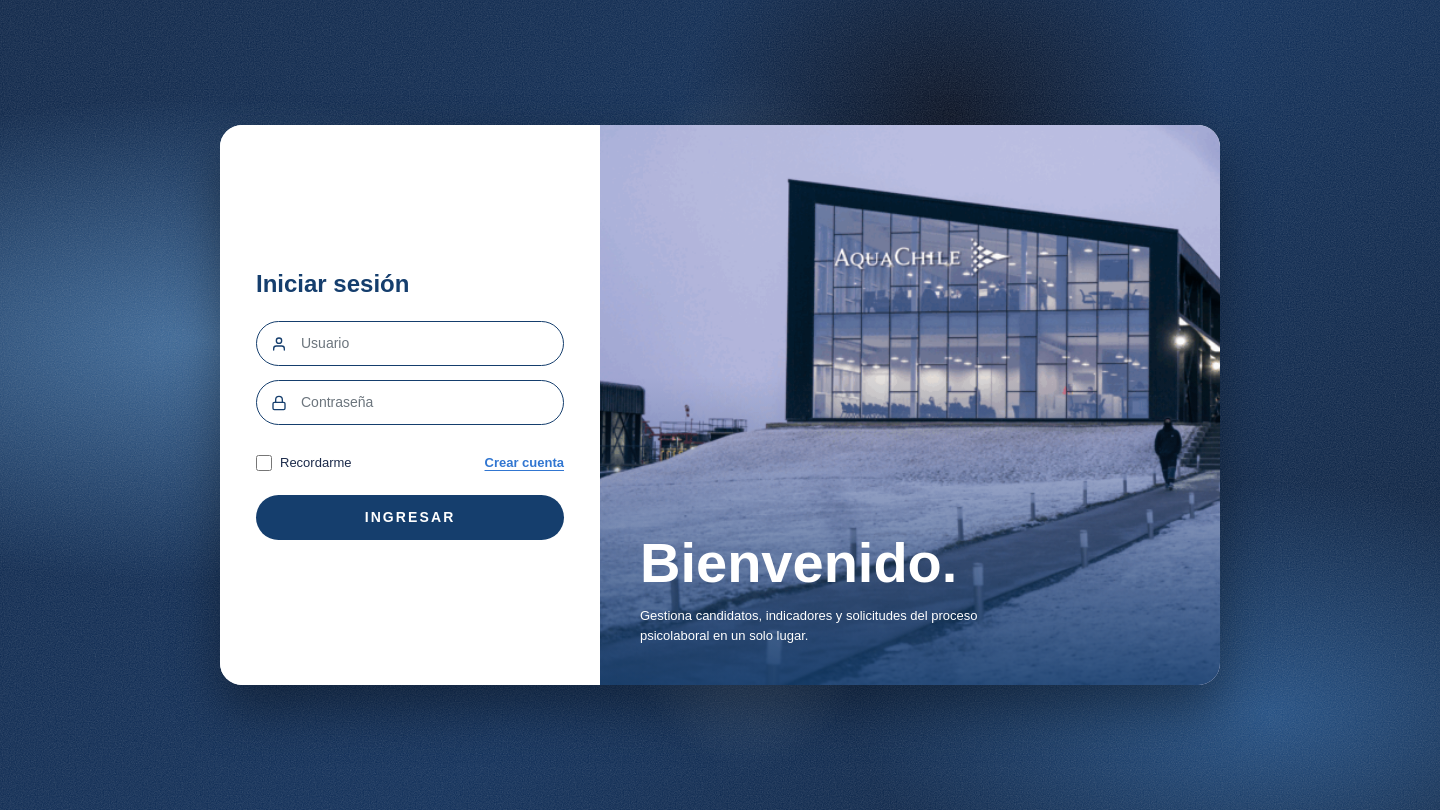
Test: Navegación con React Router › después de ingresar, / lleva a Inicio
Type "admin" into the field labelled "Usuario" at point(432, 344), box x1=301 y1=322 x2=563 y2=365
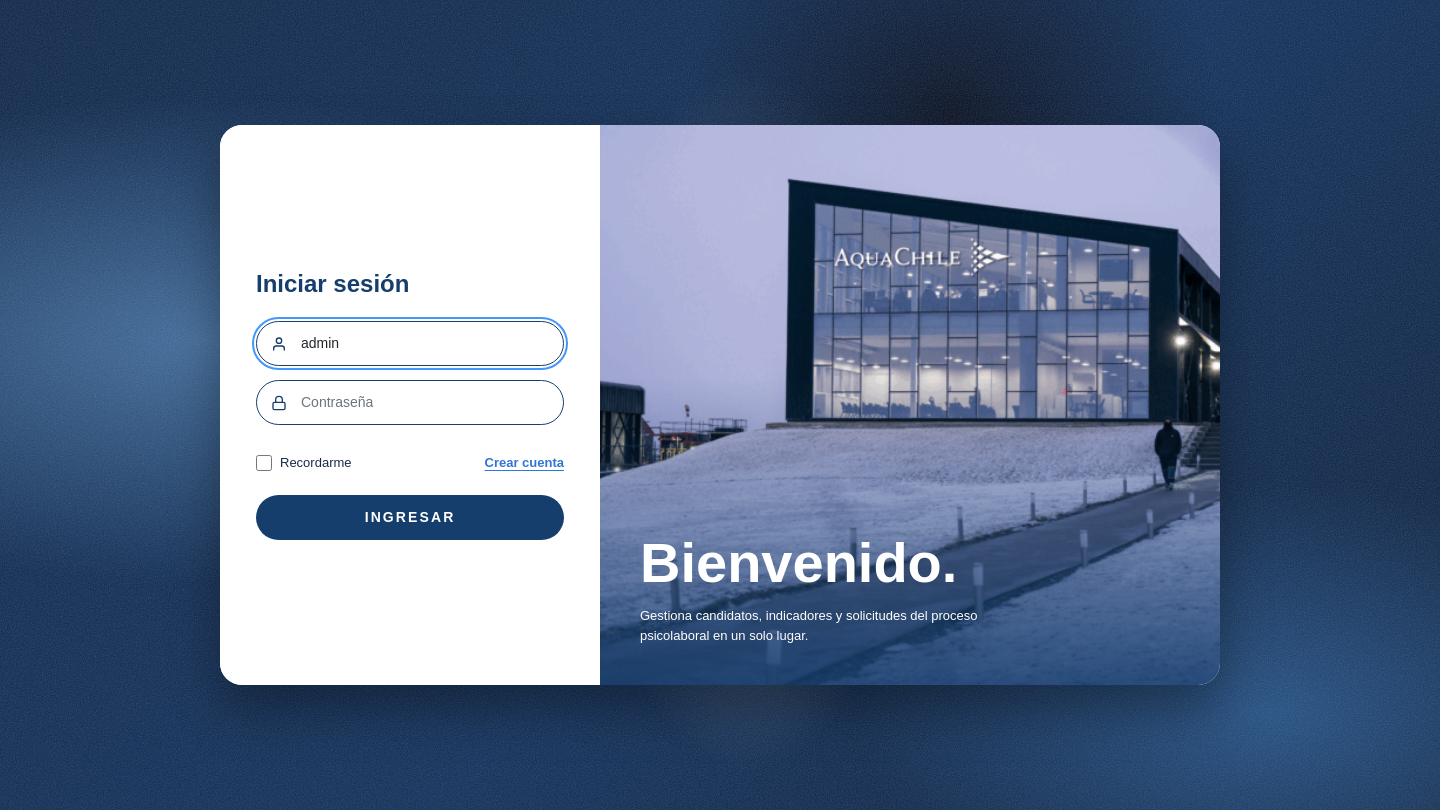
Type "admin123" into the password field labelled "Contraseña" at point(432, 403), box x1=301 y1=381 x2=563 y2=424
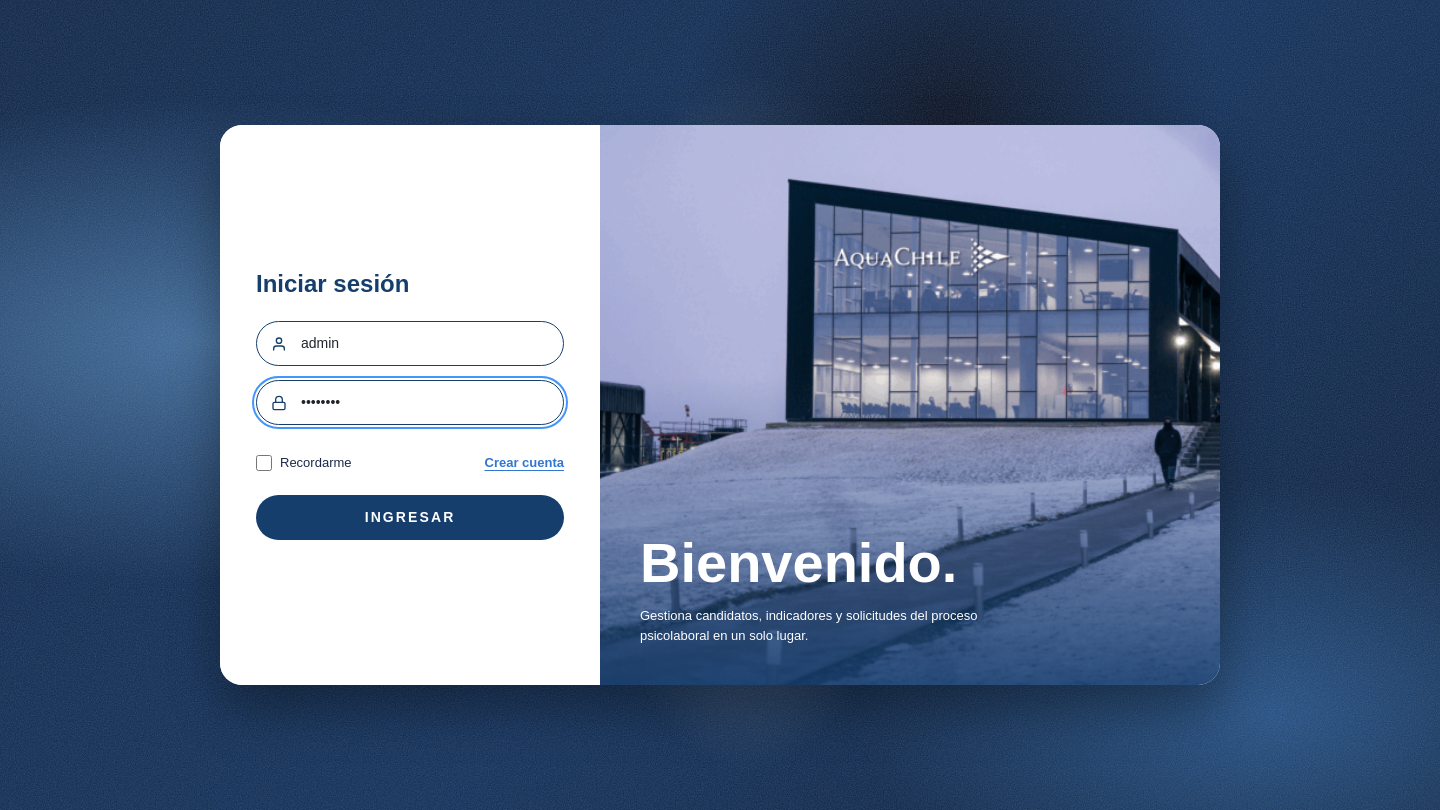
Click the button "INGRESAR" at point(410, 517), box x1=256 y1=495 x2=564 y2=540
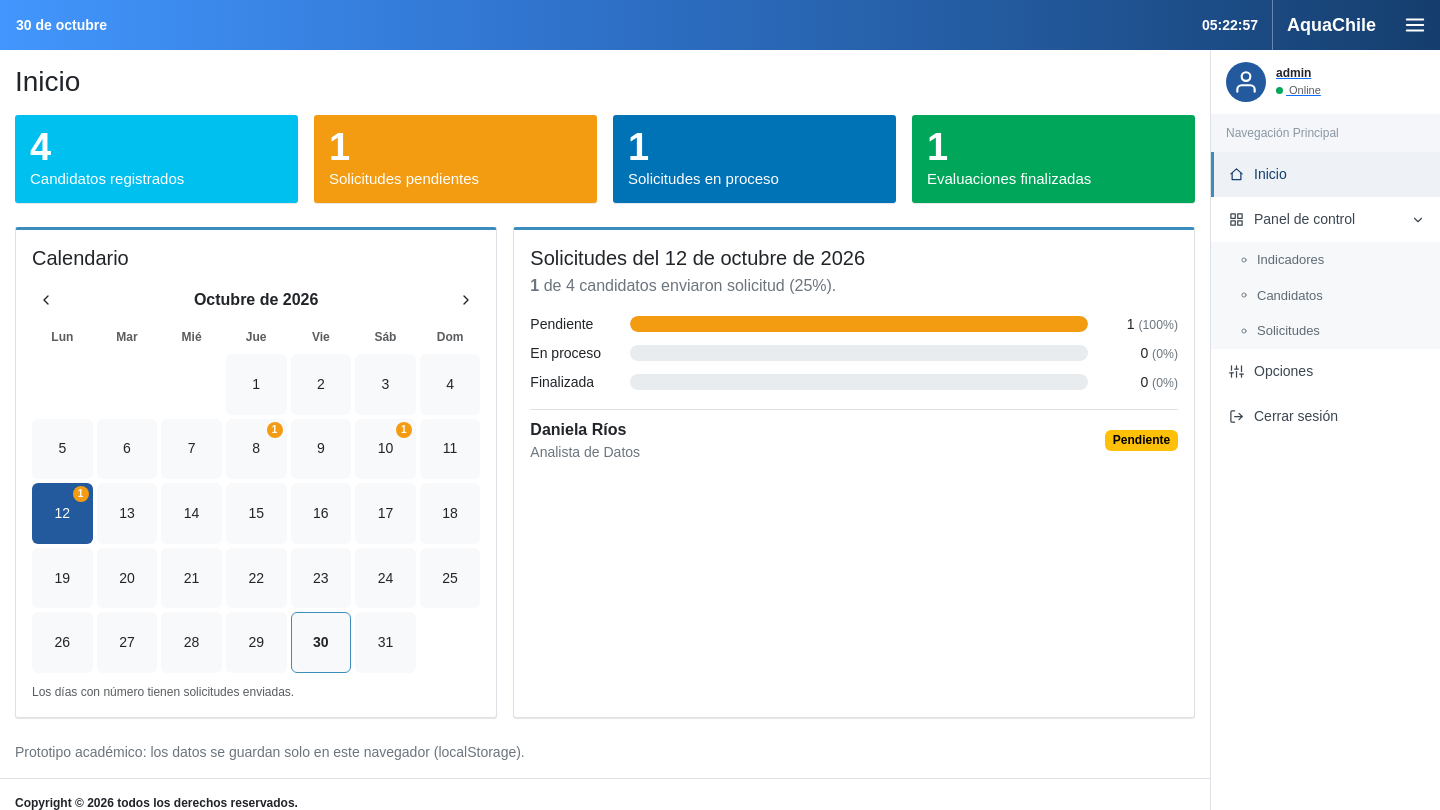
Expected: the heading "Inicio" is shown, x1=15 y1=66 x2=80 y2=97
